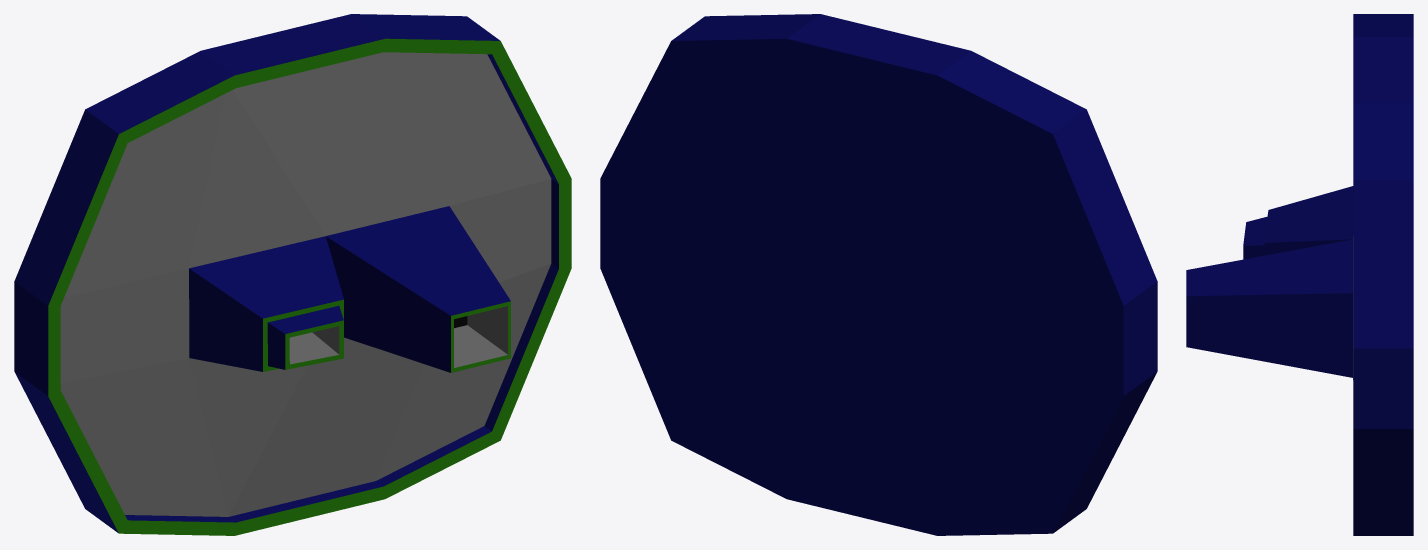
File: Fusion_Thruster_Part_Wipeout.fbx
The picture shows the model from 3 angles, left to right: view 1: azimuth 30°, elevation 25°; view 2: azimuth 150°, elevation 25°; view 3: azimuth 270°, elevation 25°; orthographic projection. The views are drawn at different scales.
Visible parts, largest first — view 1: Fusion_Thruster_Ship; view 2: Fusion_Thruster_Ship; view 3: Fusion_Thruster_Ship.
Part boxes in pixels (x1,y1,x2,y2): Fusion_Thruster_Ship: (14, 14, 571, 535); Fusion_Thruster_Ship: (600, 14, 1157, 535); Fusion_Thruster_Ship: (1186, 14, 1413, 535).
Bounding box in the file's own units: 274 × 116 × 230.
